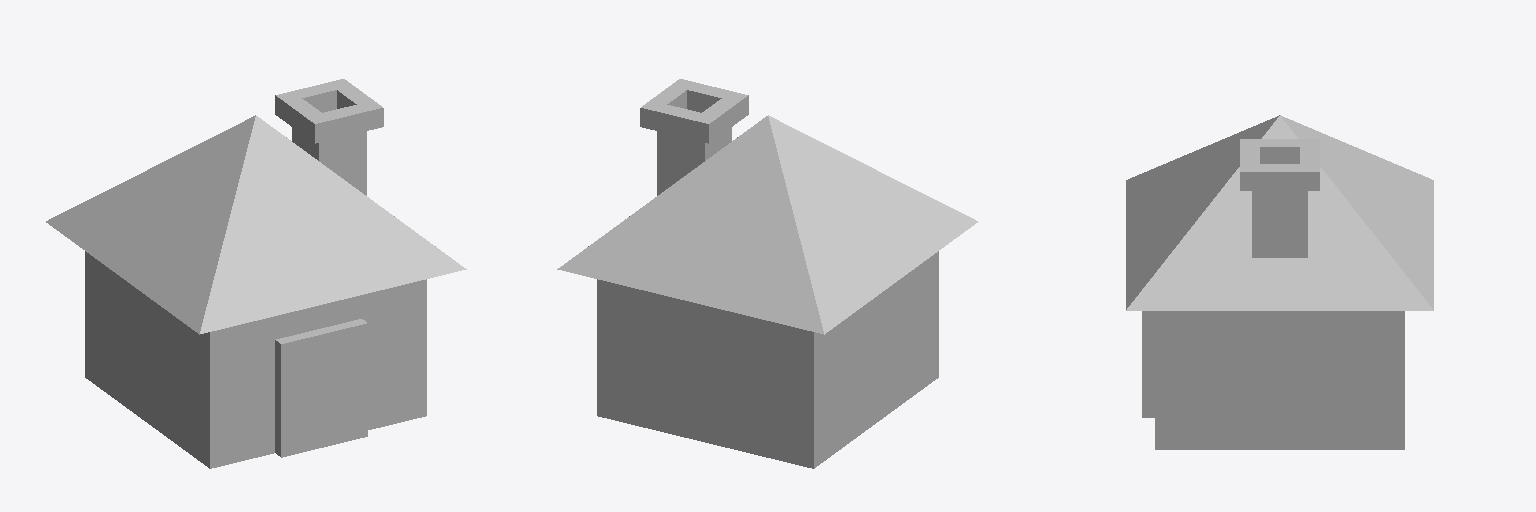
File: smallHouse.obj
3 renders of one model, left to right at view 1: azimuth 30°, elevation 25°; view 2: azimuth 150°, elevation 25°; view 3: azimuth 270°, elevation 25°, orthographic.
Visible parts, largest first — view 1: smallHouse_Cube.021; view 2: smallHouse_Cube.021; view 3: smallHouse_Cube.021.
Part boxes in pixels (bbox=[...]): smallHouse_Cube.021: bbox=[46, 79, 466, 468]; smallHouse_Cube.021: bbox=[557, 79, 977, 468]; smallHouse_Cube.021: bbox=[1126, 115, 1433, 449].
Bounding box in the file's own units: 2.08 × 2.09 × 2.08.